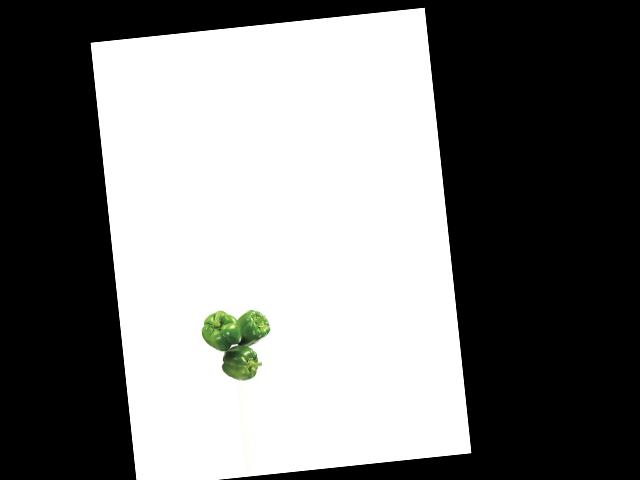bell_pepper: (195, 305, 244, 353)
